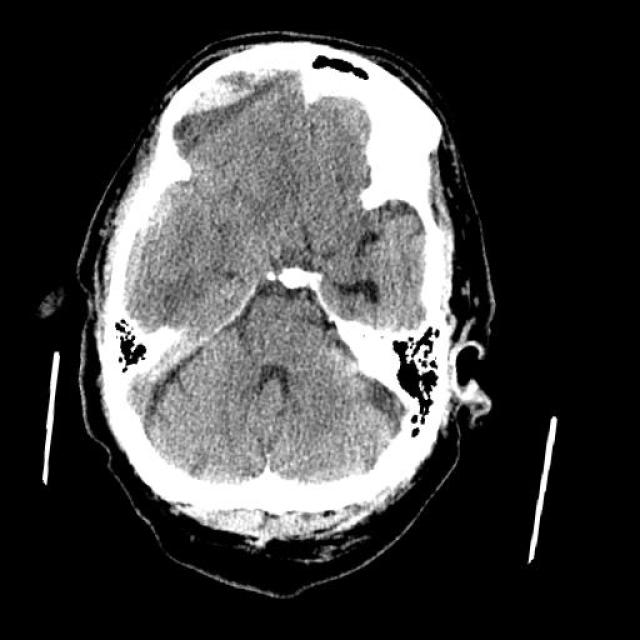Subdural: (148, 36, 298, 170)
